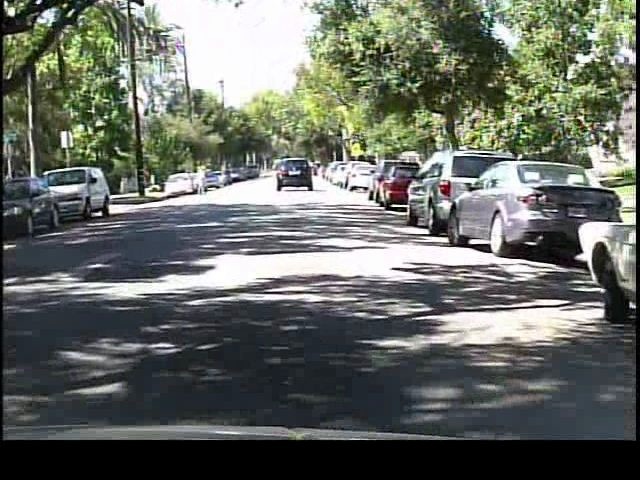person: (190, 161, 210, 199)
